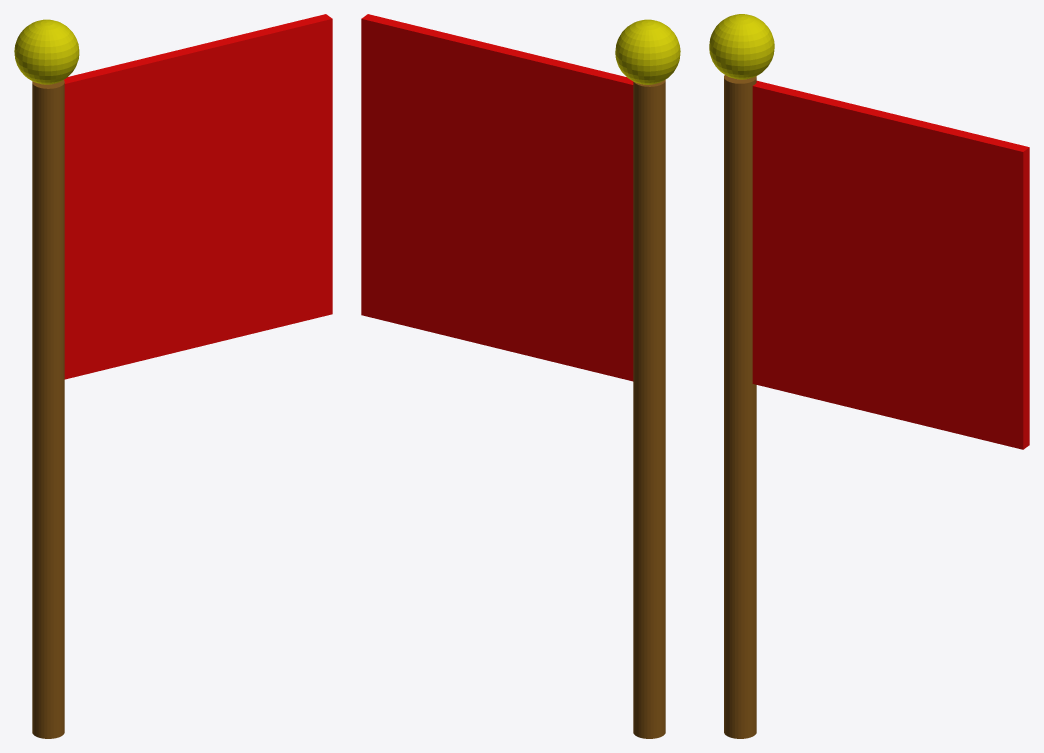
The model's file is flag.fbx.
The picture shows the model from 3 angles, left to right: view 1: azimuth 30°, elevation 25°; view 2: azimuth 150°, elevation 25°; view 3: azimuth 330°, elevation 25°; orthographic projection.
Parts seen in each view (by area): view 1: Cube, Cylinder, Sphere; view 2: Cube, Cylinder, Sphere; view 3: Cube, Cylinder, Sphere.
Boxes of the visible parts, x1=… form: Cube: x1=64, y1=14, x2=332, y2=379; Cylinder: x1=32, y1=80, x2=64, y2=738; Sphere: x1=14, y1=19, x2=79, y2=84; Cube: x1=361, y1=14, x2=633, y2=381; Cylinder: x1=633, y1=79, x2=665, y2=738; Sphere: x1=615, y1=19, x2=680, y2=84; Cube: x1=752, y1=80, x2=1029, y2=449; Cylinder: x1=724, y1=75, x2=756, y2=738; Sphere: x1=709, y1=14, x2=774, y2=79.
Size of the model in its own units: 110 by 240 by 20.
